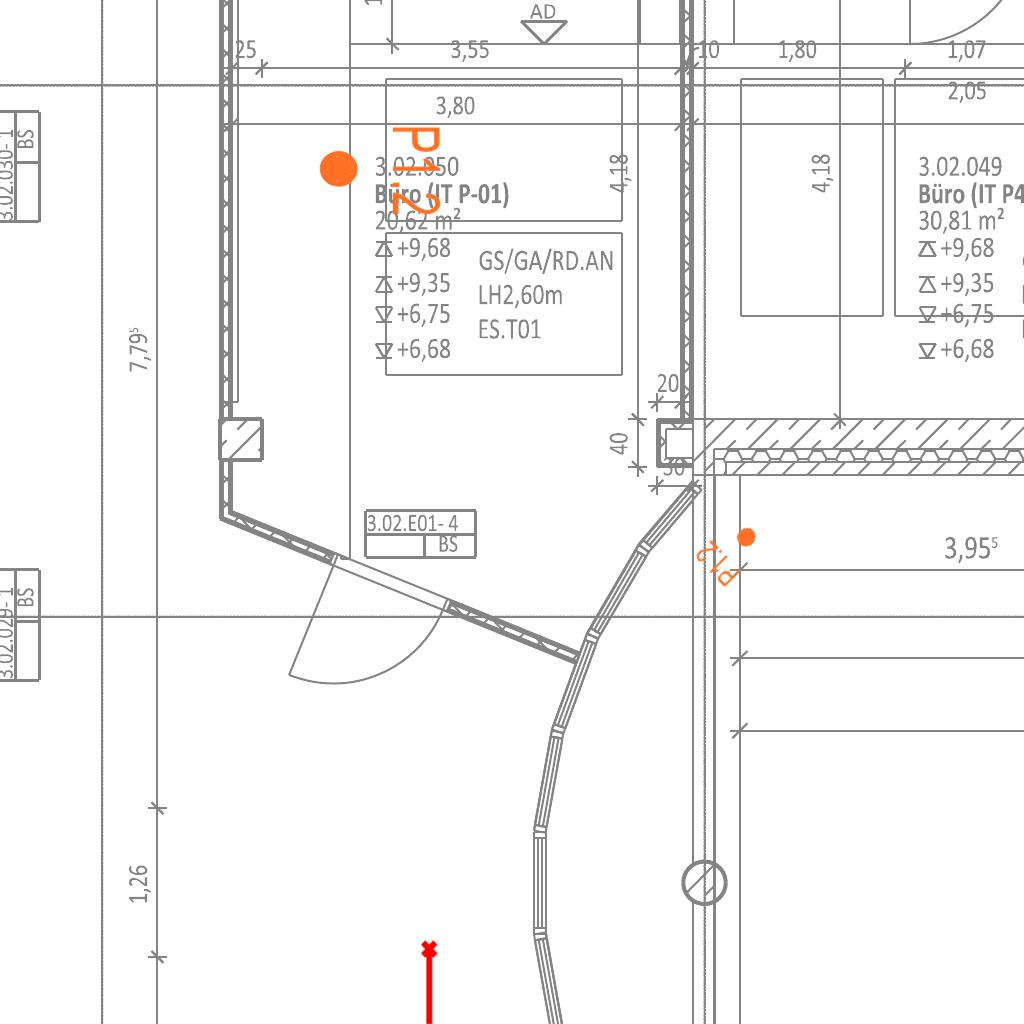ASR_Ansaugoeffnung: (419, 939, 442, 1024)
Downlight_LED_Einbauleuchten_Flur: (316, 124, 444, 217), (692, 512, 770, 590)
